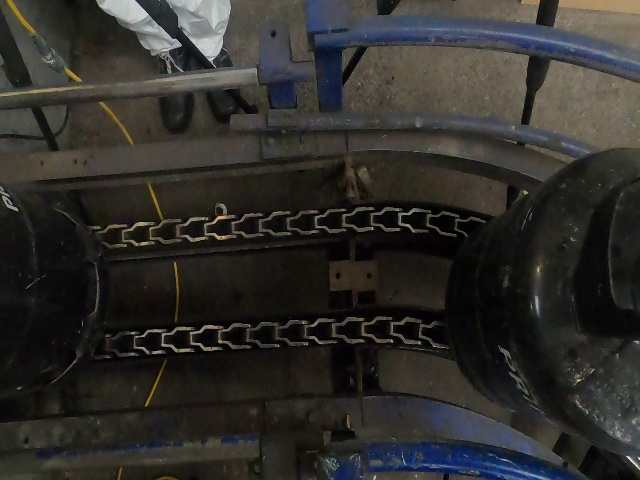gas_bottle: (3, 2, 640, 476)
